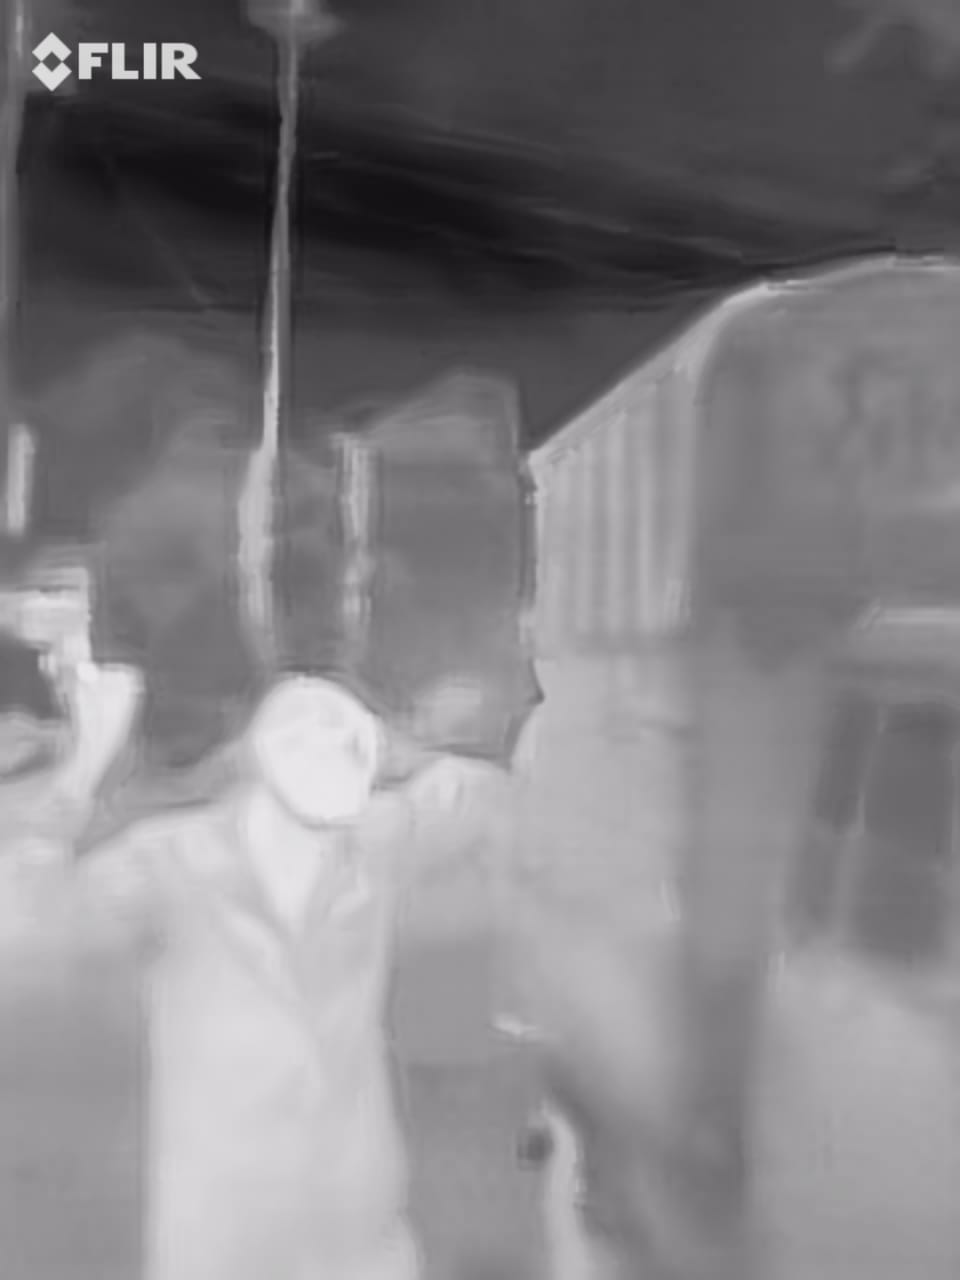head: (234, 630, 407, 841)
